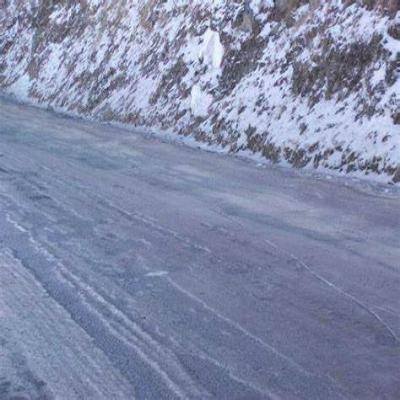iced-road: (0, 99, 400, 400)
